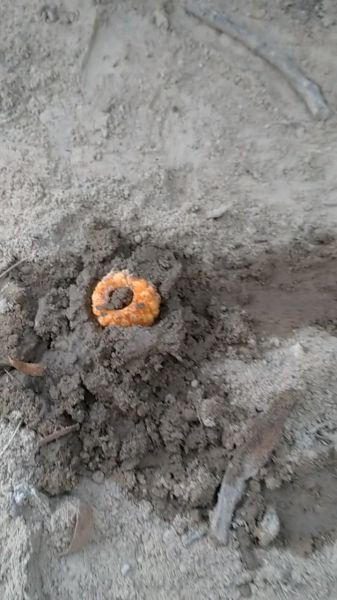eggs: (87, 265, 167, 333)
